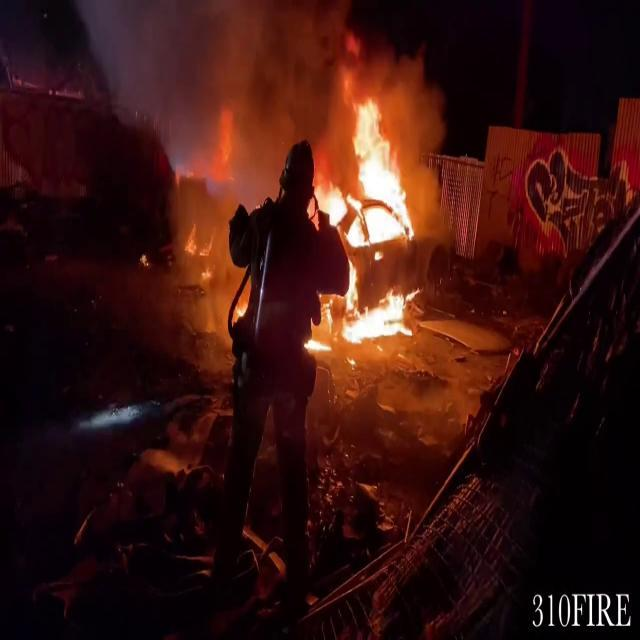Fire: (304, 85, 426, 348)
Smoke: (79, 6, 337, 255)
